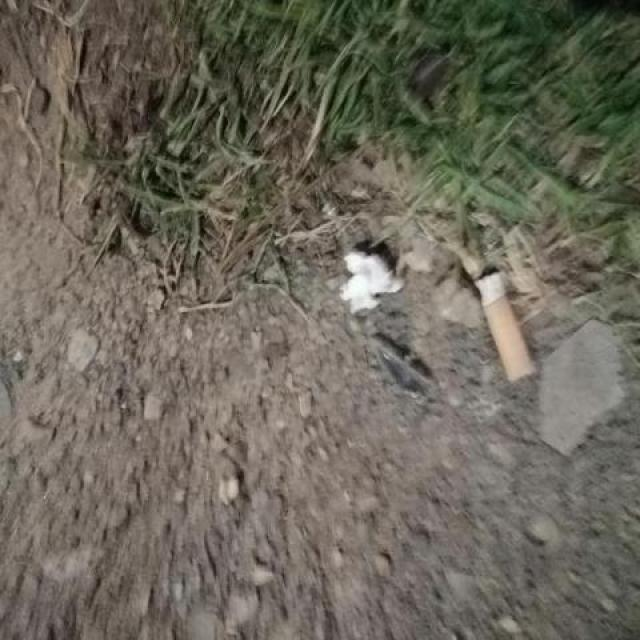non-organic waste: (470, 265, 538, 390)
